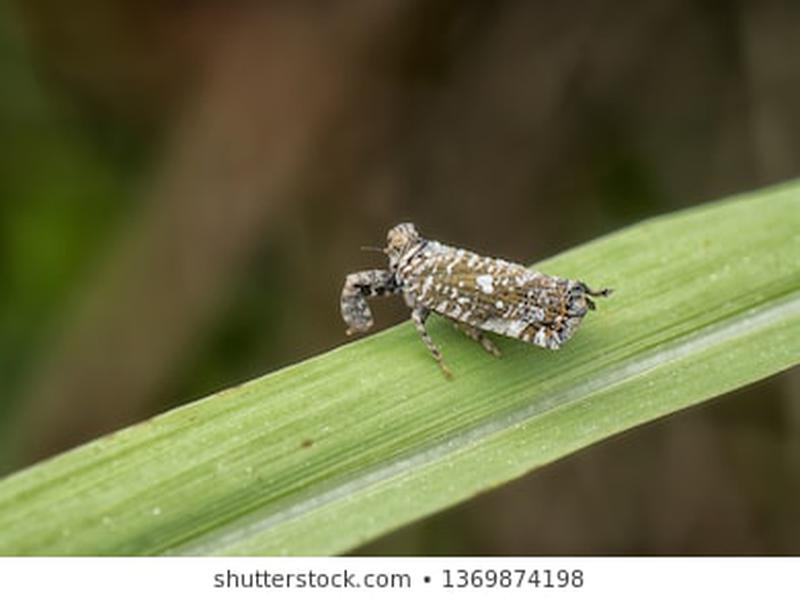Brown_plant_leafhopper: (319, 206, 620, 372)
